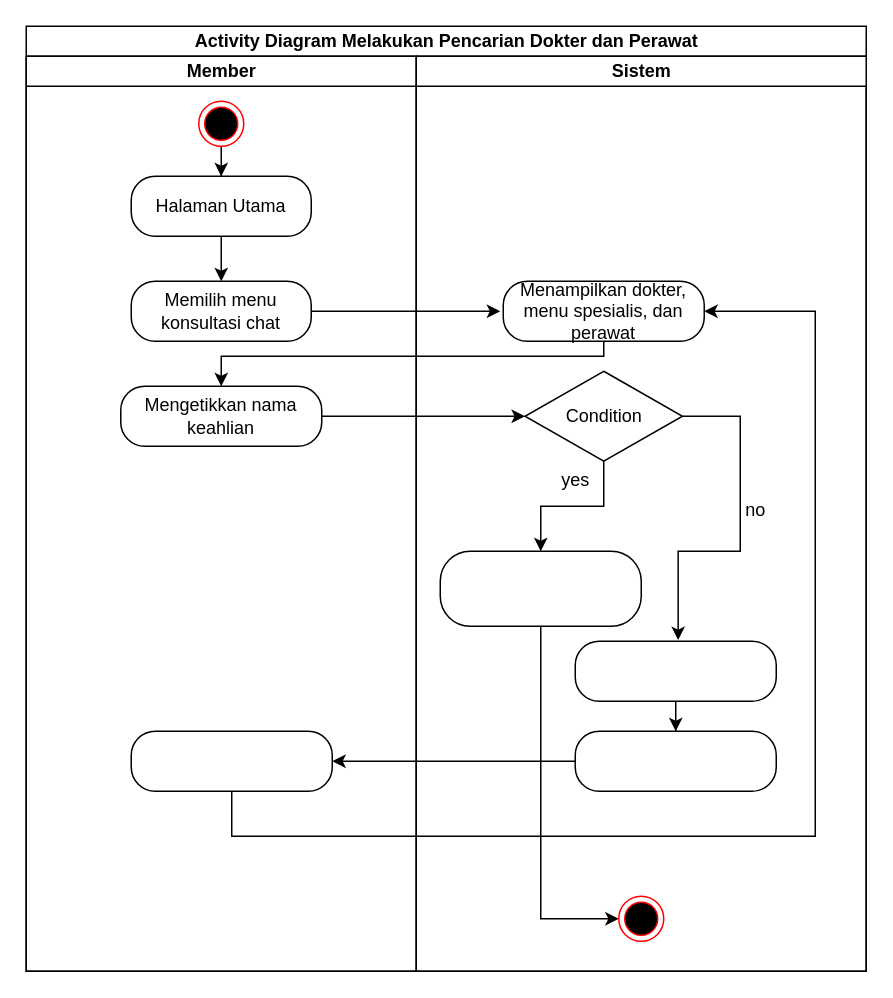
The diagram is 893 pixels wide and 998 high, and some of its shapes have lost their labels. The centre of each missing label's shape, as x and y in pixels:
"data tidak ditemukan" belongs at (675,670).
"Menampilkan daftar dokter dan perawat berdasarkan pencarian" belongs at (540,588).
"Menampilkan tombol back" belongs at (675,760).
"Menekan tombol back" belongs at (231,760).
